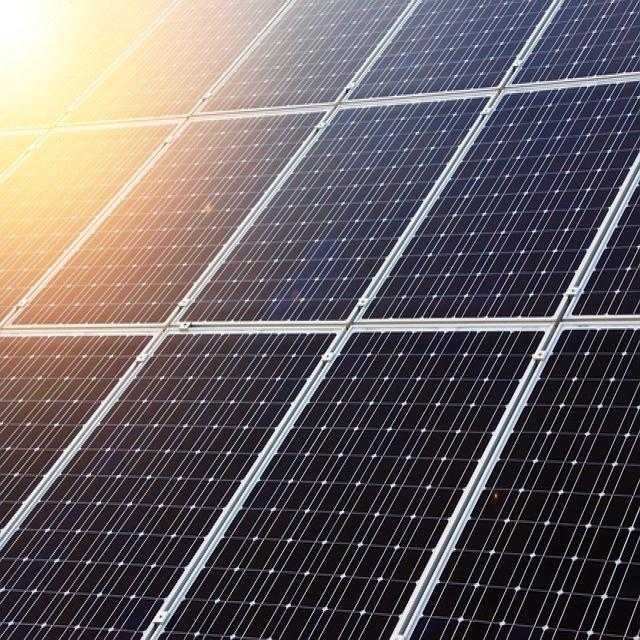clean-solar-panel: (1, 2, 640, 637)
